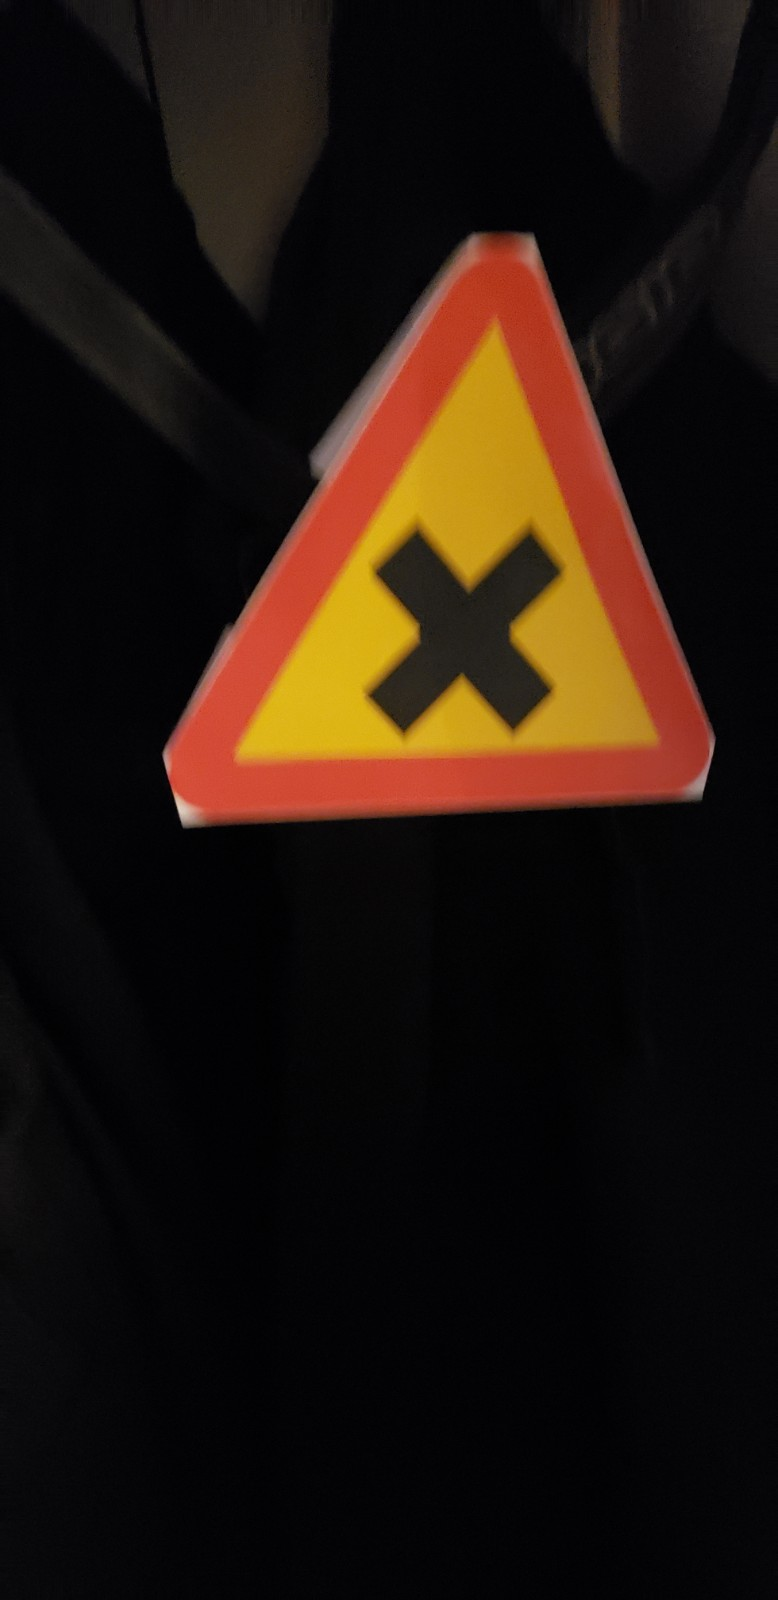junction: (136, 144, 778, 888)
